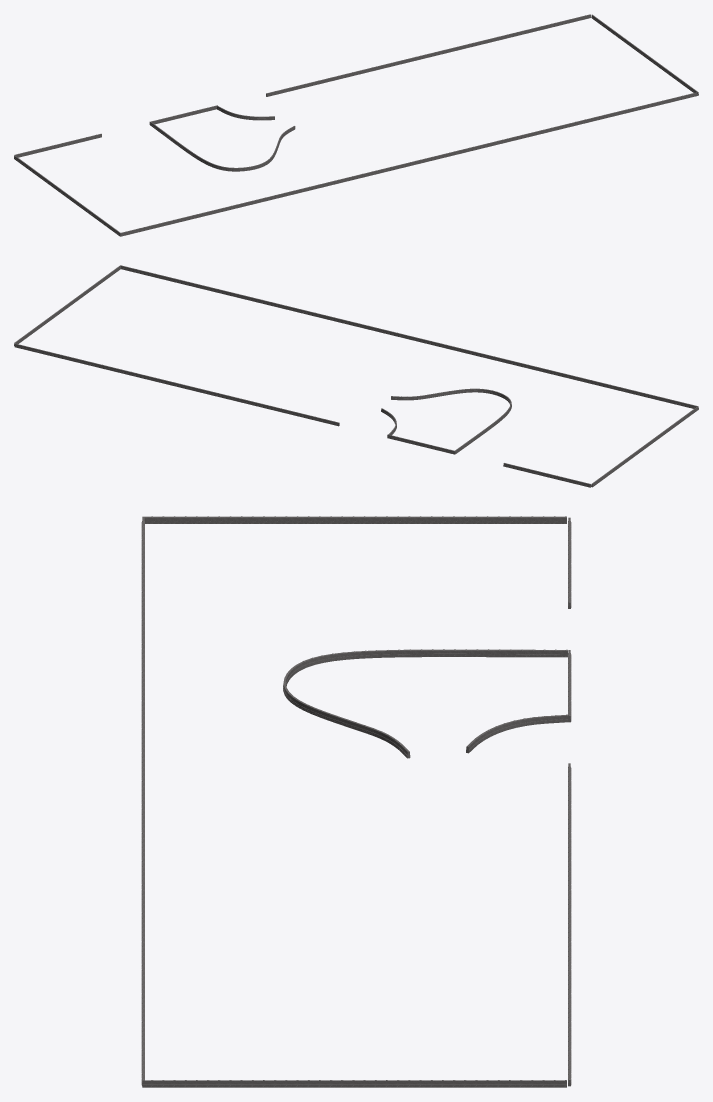
The model's file is Allpagarbatu 1.fbx.
3 renders of one model, top to bottom at view 1: azimuth 30°, elevation 25°; view 2: azimuth 150°, elevation 25°; view 3: azimuth 270°, elevation 25°, orthographic. The views are drawn at different scales.
Parts seen in each view (by area): view 1: Pagar2.004, Pagar2.003, Pagar2.001; view 2: Pagar2.004, Pagar2.003, Pagar2.001; view 3: Pagar2.003, Pagar2.004, Pagar2.001, Pagar2.002.
Boxes of the visible parts, bbox=[...] form: Pagar2.004: bbox=[14, 14, 697, 236]; Pagar2.003: bbox=[14, 14, 698, 236]; Pagar2.001: bbox=[150, 122, 295, 171]; Pagar2.004: bbox=[14, 265, 697, 487]; Pagar2.003: bbox=[14, 265, 698, 487]; Pagar2.001: bbox=[391, 388, 511, 453]; Pagar2.003: bbox=[142, 516, 566, 1087]; Pagar2.004: bbox=[141, 517, 571, 1086]; Pagar2.001: bbox=[283, 649, 567, 758]; Pagar2.002: bbox=[466, 714, 568, 753].
Bounding box in the file's own units: 32749 × 195 × 10523.
